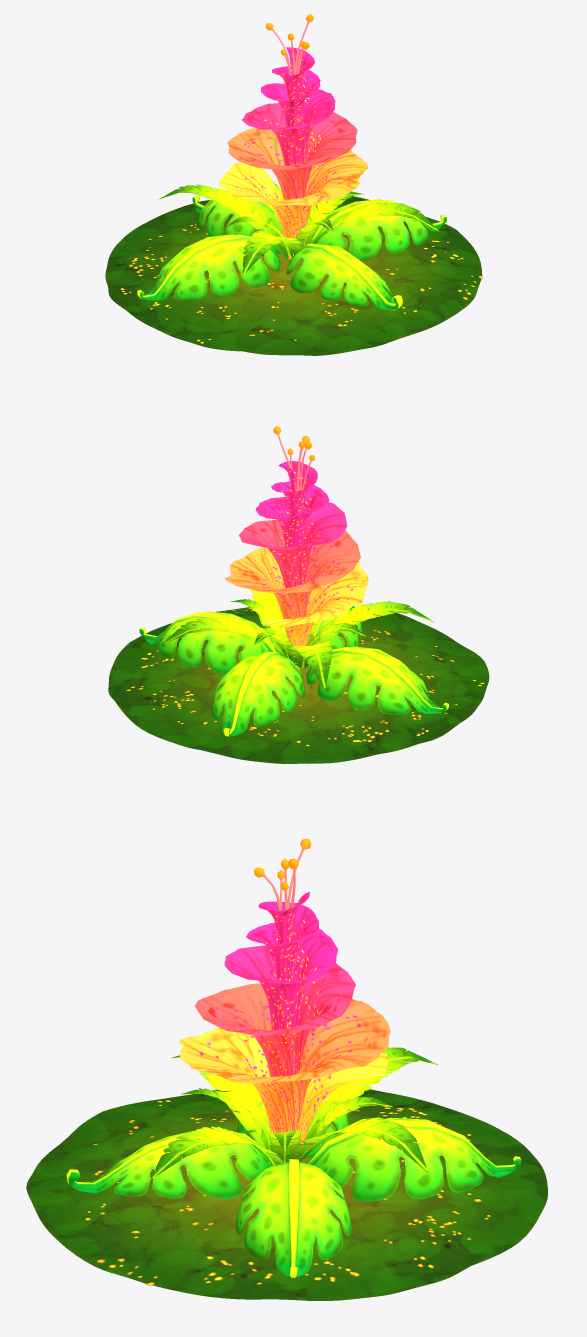
File: ros.glb
The picture shows the model from 3 angles, top to bottom: view 1: azimuth 30°, elevation 25°; view 2: azimuth 150°, elevation 25°; view 3: azimuth 270°, elevation 25°; orthographic projection. The views are drawn at different scales.
Visible parts, largest first — view 1: Object_2; view 2: Object_2; view 3: Object_2.
Part boxes in pixels (x1,y1,x2,y2): Object_2: [105, 14, 482, 355]; Object_2: [108, 426, 489, 763]; Object_2: [26, 838, 547, 1300].
Bounding box in the file's own units: 9.37 × 6.6 × 9.37.
Materials: 1 (1 with a texture image).
